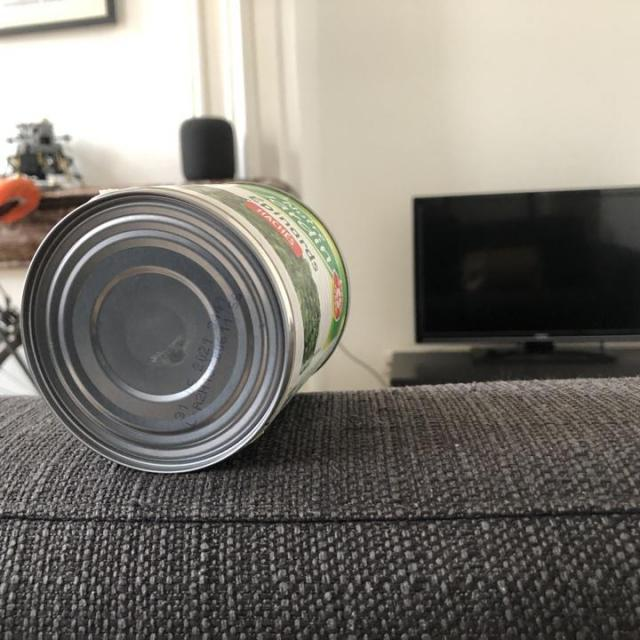metal-can: (17, 175, 353, 478)
